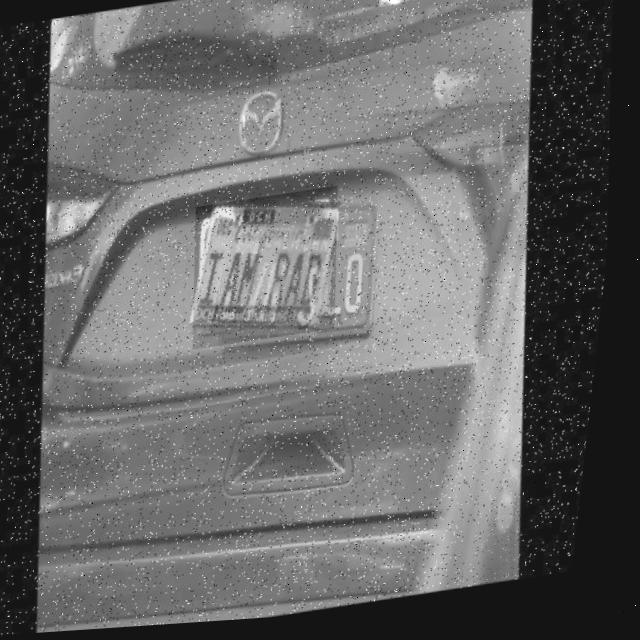LicensePlate: (188, 189, 355, 353)
